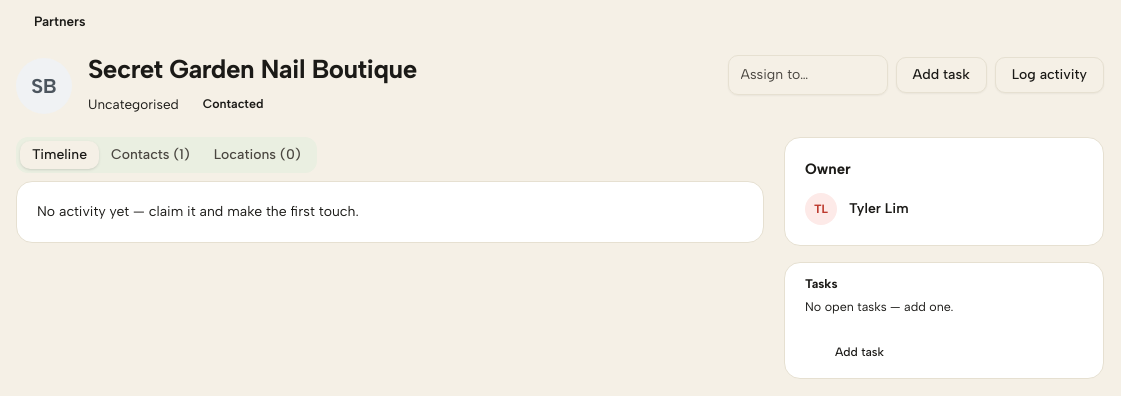
PartnerDetail — only the owner works the business › hides contact + location editing from a non-owner BDM
This screenshot has width=1121, height=396.
Expected: the text "Secret Garden Nail Boutique" is shown, [88,55,417,85]
Step 1. Click the tab "Contacts (1)" → (150, 155), box [99,141,202,169]
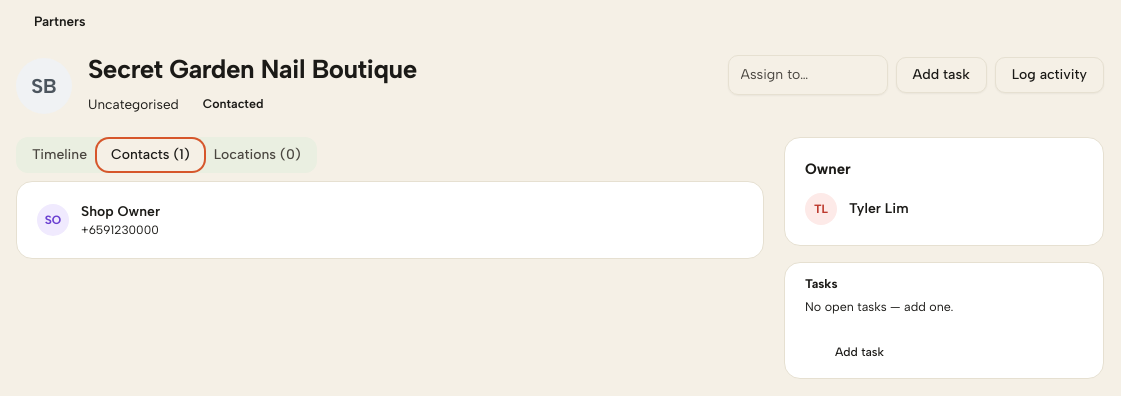
Now the panel is shown, box [16,181,764,259]
Now the text "Shop Owner" is shown, box [81,203,160,220]
Step 2. Click the tab "Locations (0)" → (257, 155), box [202,141,313,169]
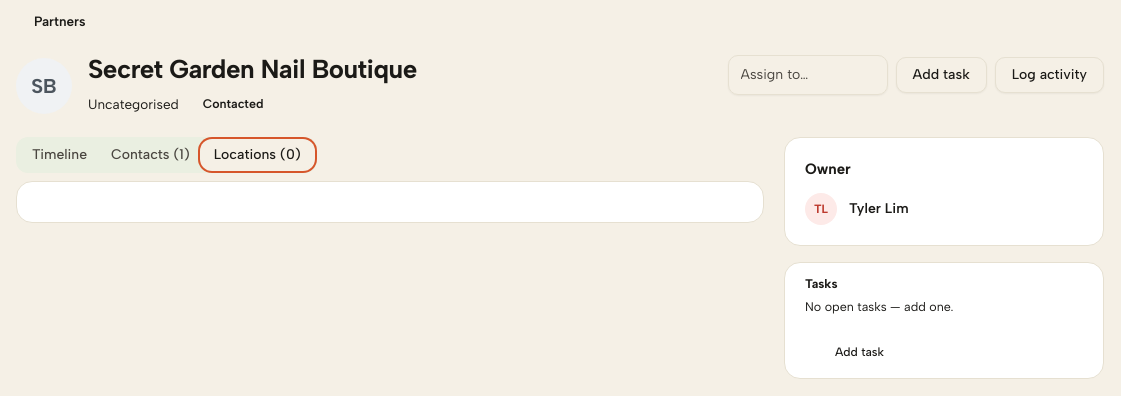
Now the panel is shown, box [16,181,764,223]
